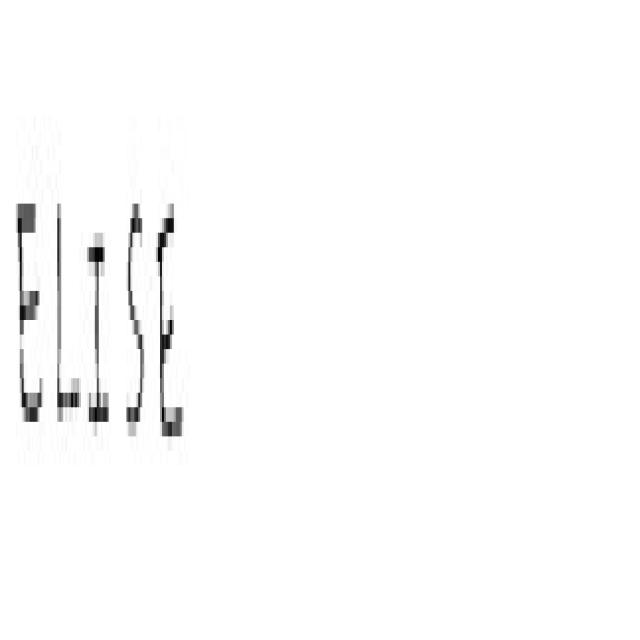E: (11, 135, 48, 562), (156, 147, 185, 558)
I: (87, 167, 111, 608)
L: (54, 135, 82, 613)
S: (126, 148, 148, 528)
